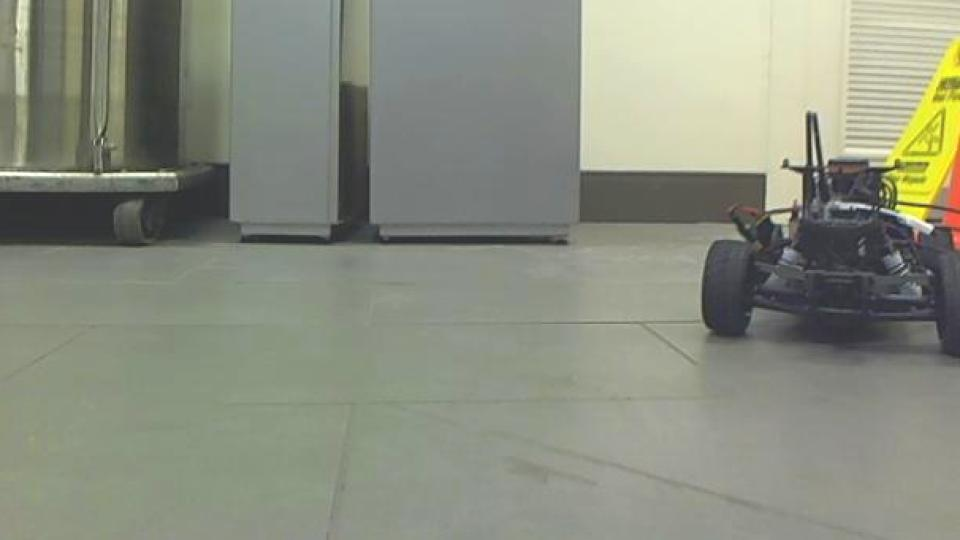car: (697, 108, 960, 361)
